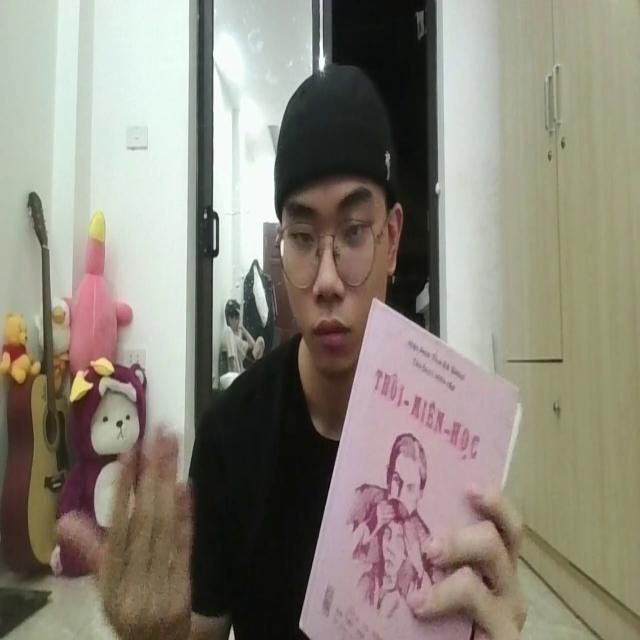book: (301, 297, 516, 640)
student: (178, 64, 518, 640)
